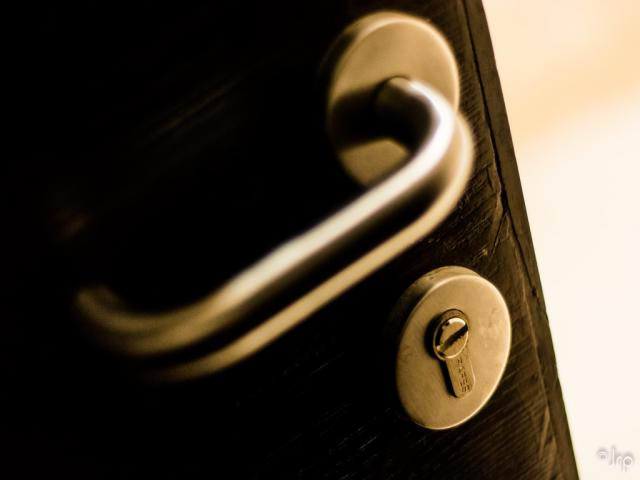Door-handle: (68, 10, 479, 392)
